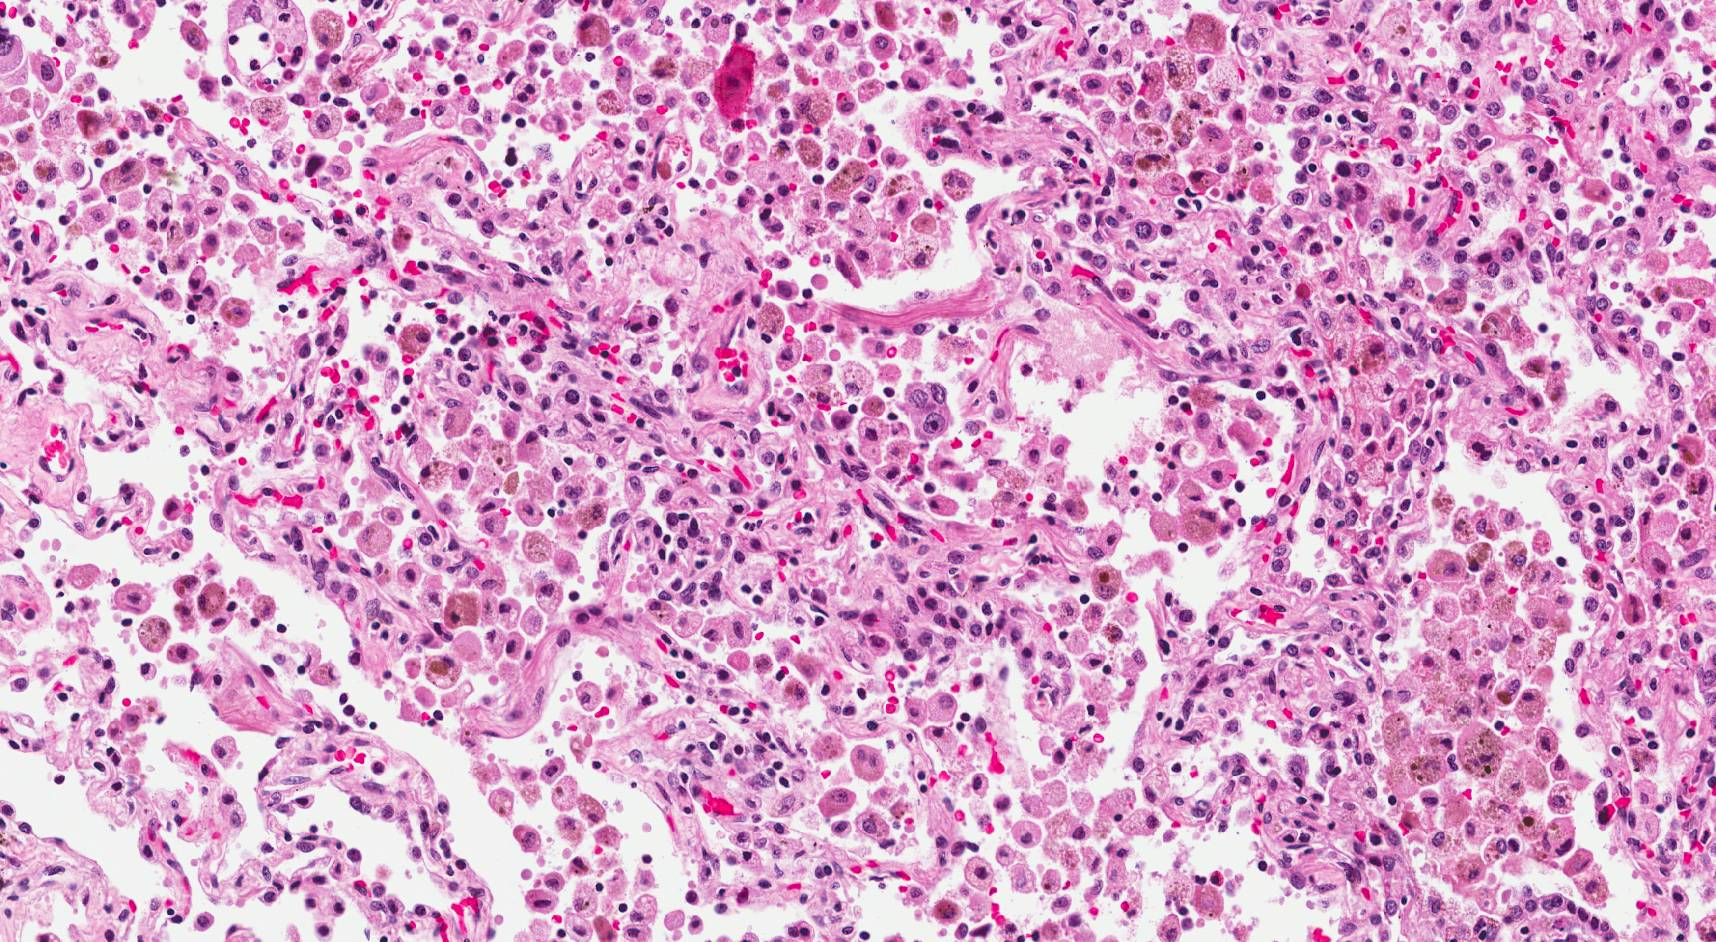stas: (898, 380, 954, 439)
